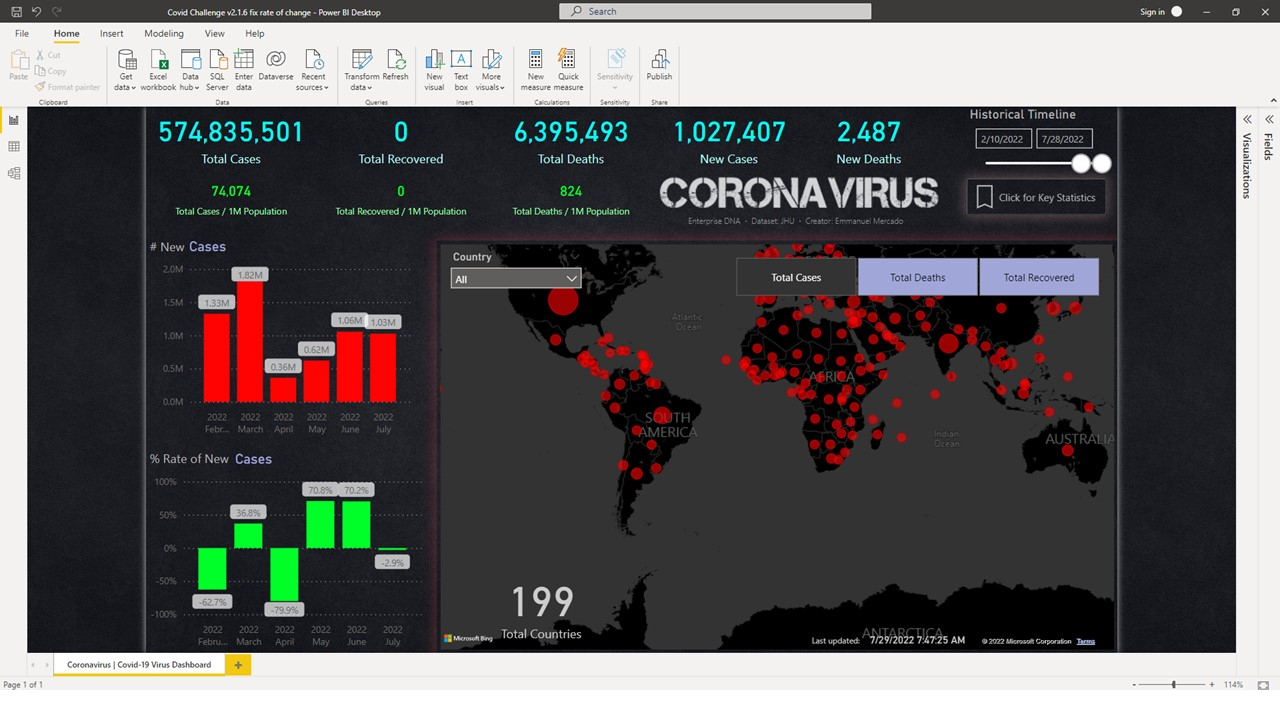

This screenshot's page, from the dashboard's own definition file:
{"tool":"powerbi","page":{"name":"Coronavirus | Covid-19 Virus Dashboard","canvas":[1280,720],"ordinal":0},"visuals":[{"type":"image","box":[664.1,0,392.8,223.7],"z":0},{"type":"pivotTable","title":"All Statistics","fields":{"Rows":["LookMapLatLong.Country"],"Values":["Measure - Key.1. Total Cases","Measure - Key.1. Total Recovered","Measure - Key.1. Total Deaths","Measure - Key.3. New Cases","Measure - Key.3. New Recovered","Measure - Key.3. New Deaths","Measure - Key.4. Total Cases / 1M Population","Measure - Key.4. Total Recovered / 1M Population","Measure - Key.4. Total Dealths / 1M Population","Measure - Support.Selected Popluation Size","Measure - Key.4. New Cases Rate","Measure - Key.4. Death Rate"]},"box":[1256.8,703.7,12.3,8.8],"z":1000},{"type":"map","fields":{"Category":["FactCovidStatus.Country/Region"],"Size":["Measure - Switch.Selection Switch 1 - Main"]},"box":[383.1,176.1,896.6,544.3],"z":2000},{"type":"card","fields":{"Values":["Key Measures.Count Confirmed"]},"box":[0,0,224,80],"z":3000},{"type":"card","fields":{"Values":["Key Measures.Count Recovered"]},"box":[224,0,224,80],"z":4000},{"type":"card","fields":{"Values":["Key Measures.Count Death"]},"box":[448,0,224,80],"z":5000},{"type":"card","fields":{"Values":["Key Measures.New Cases"]},"box":[672,0,192,80],"z":6000},{"type":"card","fields":{"Values":["Key Measures.New Deaths"]},"box":[864,0,176,80],"z":7000},{"type":"slicer","title":"Historical Timeline","fields":{"Values":["DateDynamic.Date"]},"box":[1080.2,0,199.8,96],"z":8000},{"type":"slicer","fields":{"Values":["Selected Measure Map.Selected Measure"]},"box":[752,192,528,64],"z":9000},{"type":"card","fields":{"Values":["Key Measures.Date Last Refreshed"]},"box":[935.6,688,160,32],"z":10000},{"type":"textbox","box":[871.6,688,96,32],"z":11000},{"type":"card","fields":{"Values":["Measure - Support.Total Countries"]},"box":[448.3,599.8,143.6,112.7],"z":12000},{"type":"lineStackedColumnComboChart","fields":{"Y":["Measure - Switch.Selection Switch 3"],"Category":["DateDynamic.Date.Variation.Date Hierarchy.Year","DateDynamic.Date.Variation.Date Hierarchy.Month","DateDynamic.Date.Variation.Date Hierarchy.Day"]},"box":[0,480,368,240],"z":13000},{"type":"lineStackedColumnComboChart","fields":{"Y":["Measure - Switch.Selection Switch 2"],"Category":["DateDynamic.Date.Variation.Date Hierarchy.Year","DateDynamic.Date.Variation.Date Hierarchy.Month","DateDynamic.Date.Variation.Date Hierarchy.Day"]},"box":[16.4,200.2,336,240],"z":14000},{"type":"textbox","box":[0.4,168.2,72,32],"z":15000},{"type":"textbox","box":[0,448,136,32],"z":16000},{"type":"textbox","box":[52,174,119.8,47.6],"z":17000},{"type":"textbox","box":[112,454,120,48],"z":18000},{"type":"slicer","fields":{"Values":["FactCovidStatus.Country/Region"]},"box":[392,184,192,64],"z":19000},{"type":"card","fields":{"Values":["Measure - Key.4. Total Cases / 1M Population"]},"box":[0,80,224,80],"z":20000},{"type":"card","fields":{"Values":["Measure - Key.4. Total Deaths / 1M Population"]},"box":[448,80,224,80],"z":21000},{"type":"card","fields":{"Values":["Measure - Key.4. Total Recovered / 1M Population"]},"box":[240,80,192,80],"z":22000},{"type":"textbox","box":[1118.5,105.7,148.8,28.2],"z":22500},{"type":"actionButton","box":[1080.7,95.1,184.1,48.4],"z":23000},{"type":"textbox","box":[664.1,135.6,384,39.6],"z":24000}]}

Visuals, with their boxes on the page's 1280x720 design canvas (x1, y1, x2, y2). These are canvas units, not pixel positions in the 1280x720 screenshot, which may show the page scaled, cropped or inside an application window:
image: 664,0,1057,224
"All Statistics" pivotTable: 1257,704,1269,712
map - FactCovidStatus.Country/Region x Measure - Switch.Selection Switch 1 - Main: 383,176,1280,720
card - Key Measures.Count Confirmed: 0,0,224,80
card - Key Measures.Count Recovered: 224,0,448,80
card - Key Measures.Count Death: 448,0,672,80
card - Key Measures.New Cases: 672,0,864,80
card - Key Measures.New Deaths: 864,0,1040,80
"Historical Timeline" slicer: 1080,0,1280,96
slicer - Selected Measure Map.Selected Measure: 752,192,1280,256
card - Key Measures.Date Last Refreshed: 936,688,1096,720
textbox: 872,688,968,720
card - Measure - Support.Total Countries: 448,600,592,712
lineStackedColumnComboChart - Measure - Switch.Selection Switch 3 x DateDynamic.Date.Variation.Date Hierarchy.Year: 0,480,368,720
lineStackedColumnComboChart - Measure - Switch.Selection Switch 2 x DateDynamic.Date.Variation.Date Hierarchy.Year: 16,200,352,440
textbox: 0,168,72,200
textbox: 0,448,136,480
textbox: 52,174,172,222
textbox: 112,454,232,502
slicer - FactCovidStatus.Country/Region: 392,184,584,248
card - Measure - Key.4. Total Cases / 1M Population: 0,80,224,160
card - Measure - Key.4. Total Deaths / 1M Population: 448,80,672,160
card - Measure - Key.4. Total Recovered / 1M Population: 240,80,432,160
textbox: 1118,106,1267,134
actionButton: 1081,95,1265,144
textbox: 664,136,1048,175
